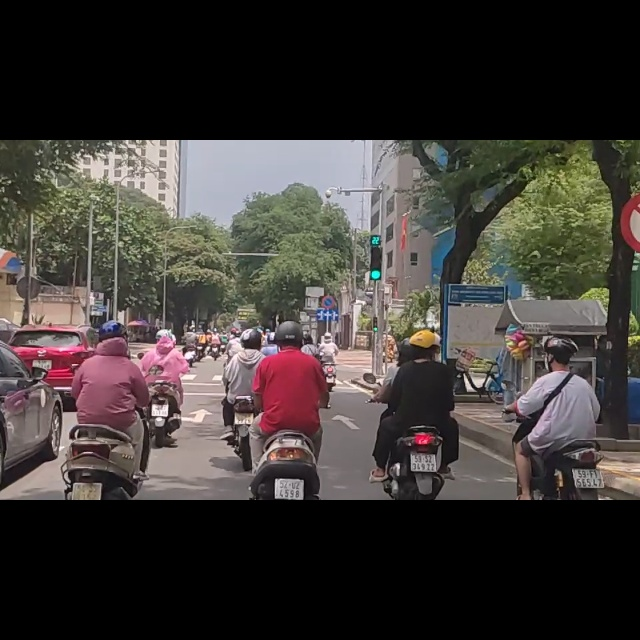bien_cam: (319, 275, 335, 302)
